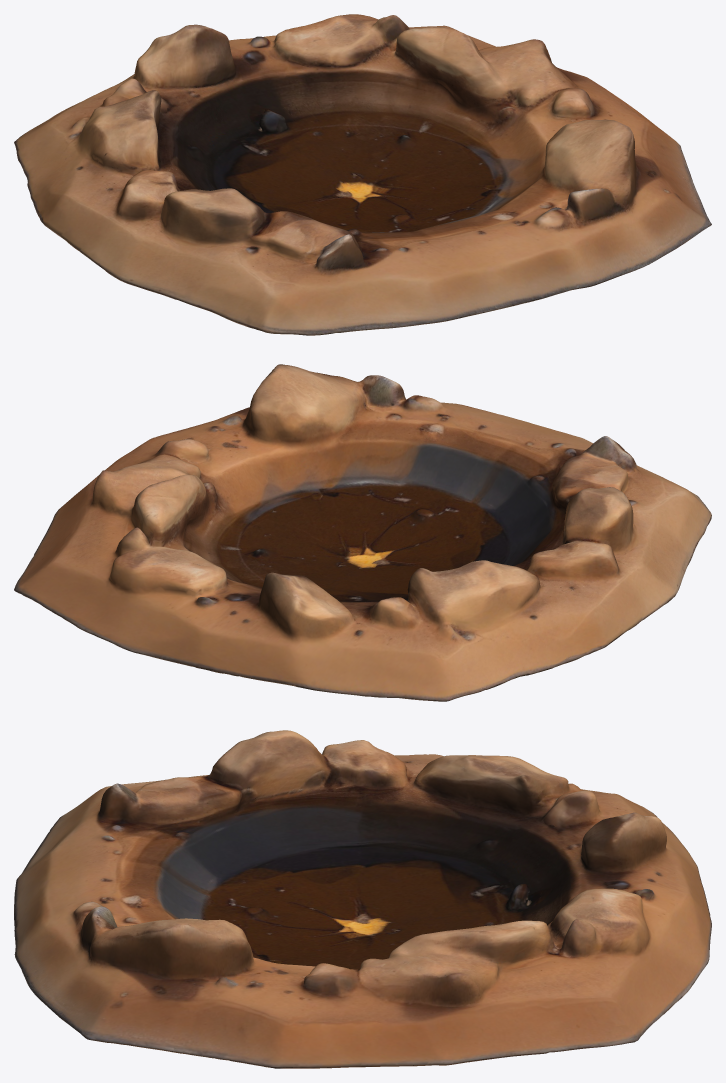
File: Create_a_pothole_pudd_0829105759_refine.fbx
3 views of the same model, one above another, from view 1: azimuth 30°, elevation 25°; view 2: azimuth 150°, elevation 25°; view 3: azimuth 270°, elevation 25° (orthographic). The views are drawn at different scales.
Parts seen in each view (by area): view 1: Mesh_0; view 2: Mesh_0; view 3: Mesh_0.
Part boxes in pixels (x1,y1,x2,y2): Mesh_0: (14,14,711,335); Mesh_0: (14,364,711,701); Mesh_0: (14,730,711,1068).
Bounding box in the file's own units: 199 × 31.48 × 200.
1 material, 1 textured.
